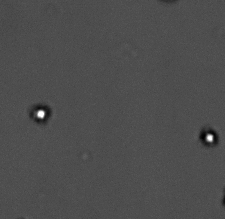Living Cell: (30, 104, 50, 124), (200, 127, 219, 146)
